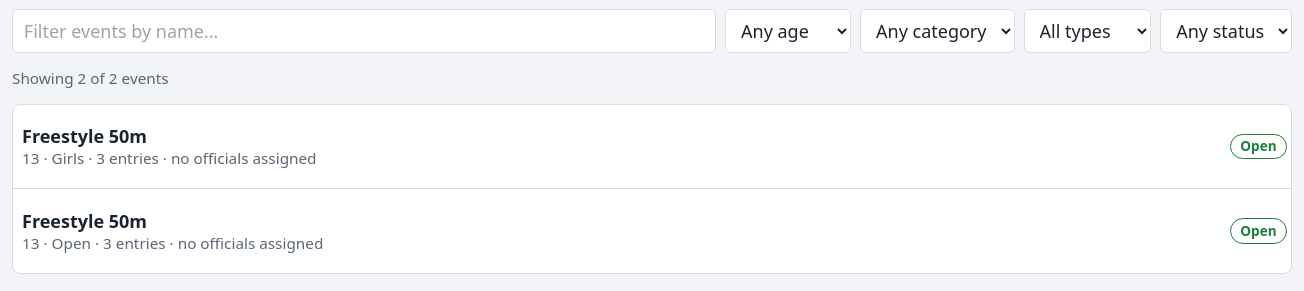
Test: EventList category filter › narrows to an Open division
The image size is (1304, 291).
Select "Open" in the dropdown named "Category" at (938, 31), box [860,9,1015,53]
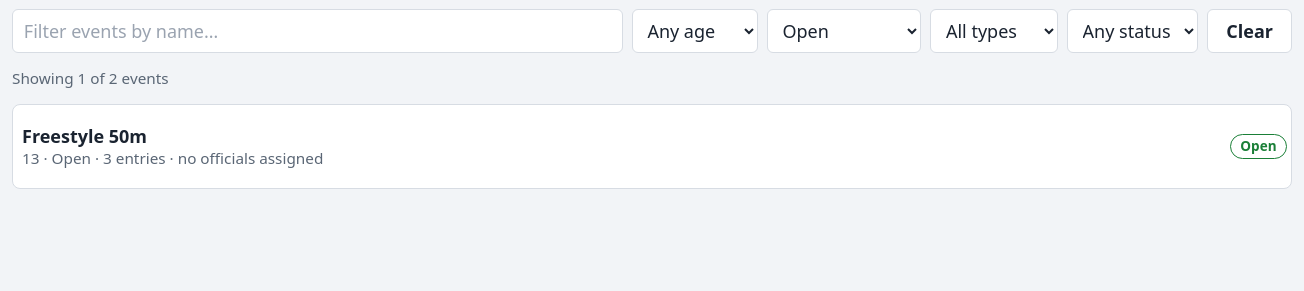
Expected: the text "Showing 1 of 2 events" is shown, [12,68,169,88]
